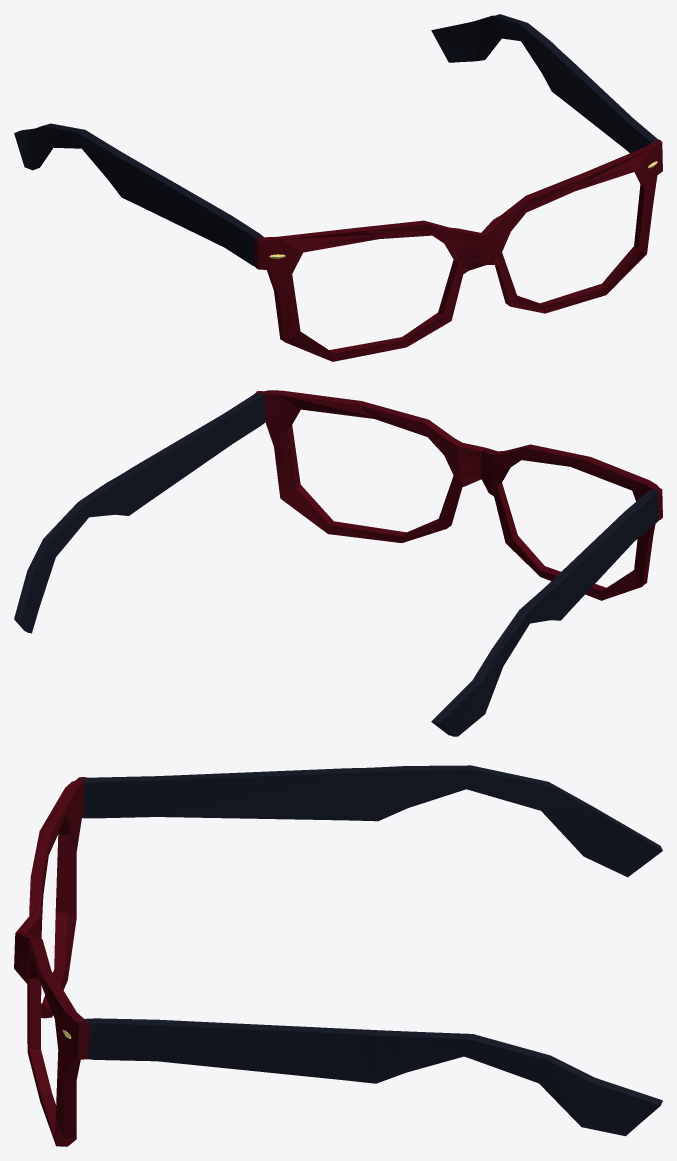
Rendered from mhw_spamrakuen_sagerfrogs_glasses_01.glb.
The picture shows the model from 3 angles, top to bottom: view 1: azimuth 30°, elevation 25°; view 2: azimuth 150°, elevation 25°; view 3: azimuth 270°, elevation 25°; orthographic projection. The views are drawn at different scales.
Visible parts, largest first — view 1: mhw_spamrakuen_sagerfrogs_glasses_01; view 2: mhw_spamrakuen_sagerfrogs_glasses_01; view 3: mhw_spamrakuen_sagerfrogs_glasses_01.
Boxes of the visible parts, x1,y1,x2,y2 form: mhw_spamrakuen_sagerfrogs_glasses_01: [14, 14, 662, 361]; mhw_spamrakuen_sagerfrogs_glasses_01: [14, 390, 662, 736]; mhw_spamrakuen_sagerfrogs_glasses_01: [14, 765, 662, 1146].
Bounding box in the file's own units: 0.1583 × 0.0434 × 0.1559.
1 material, 1 textured.
